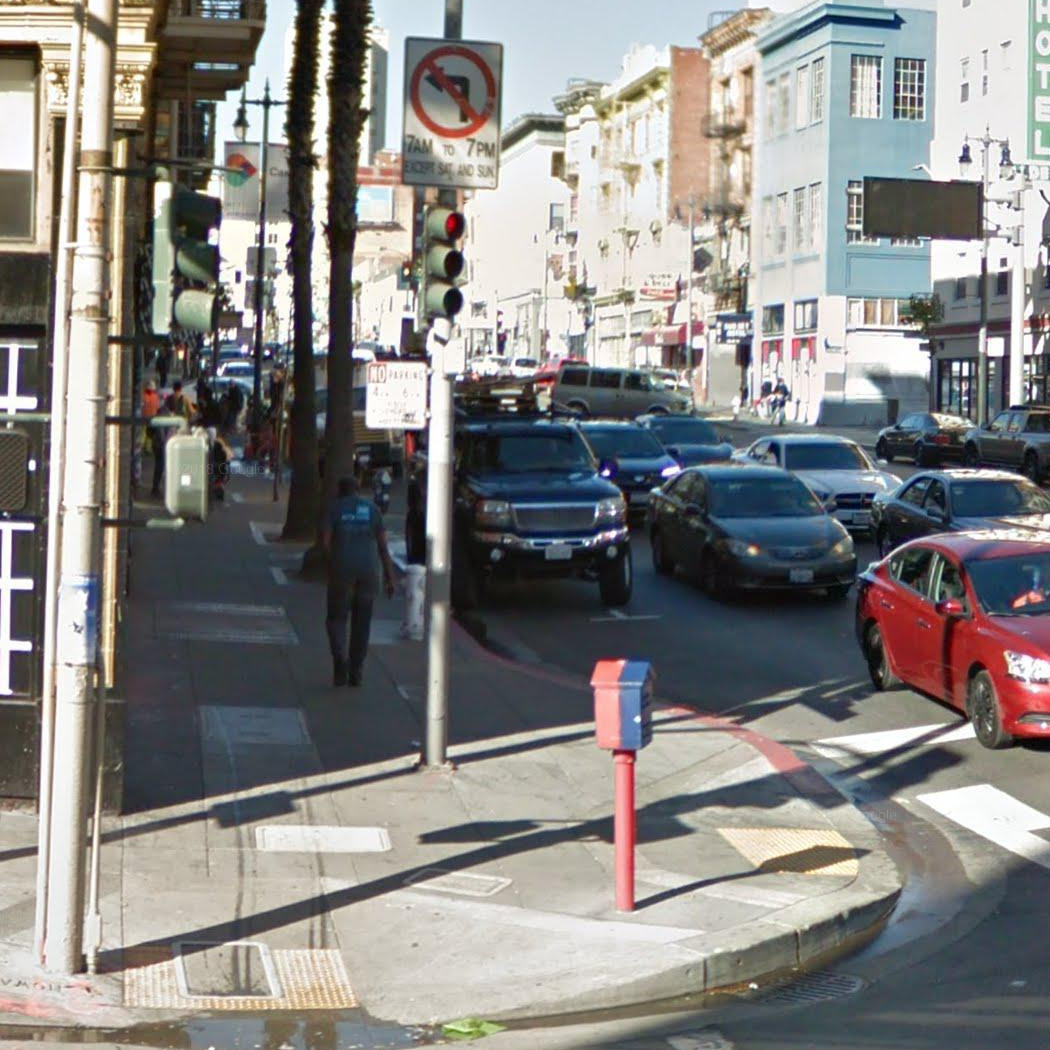No Parking: (364, 360, 428, 430)
